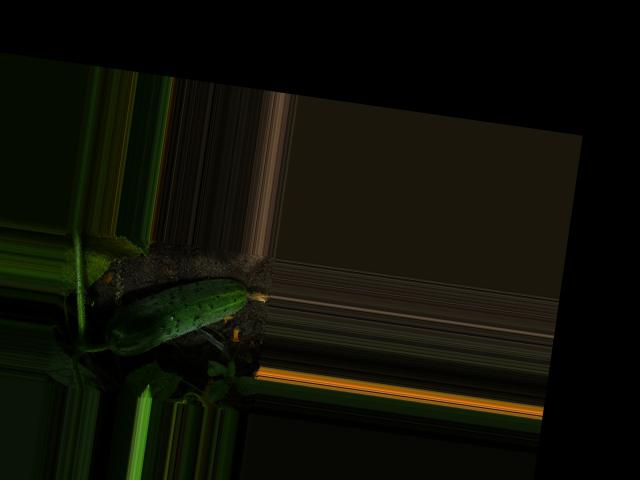cucumber: (102, 261, 271, 374)
